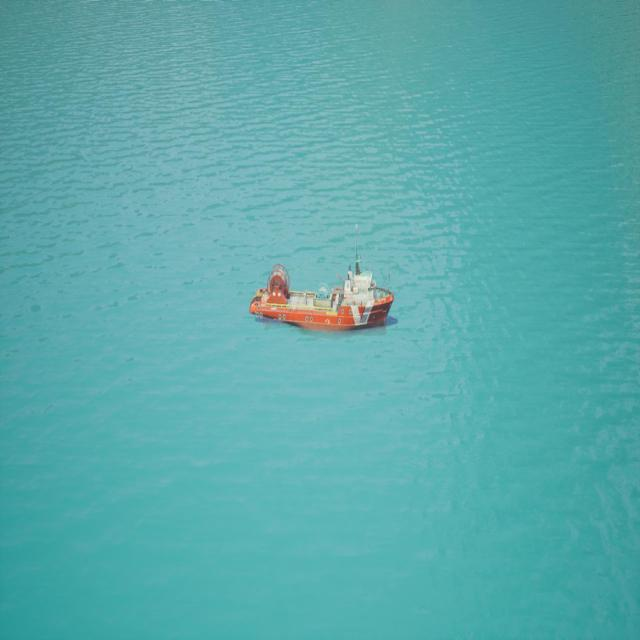tug boat: (251, 260, 396, 334)
